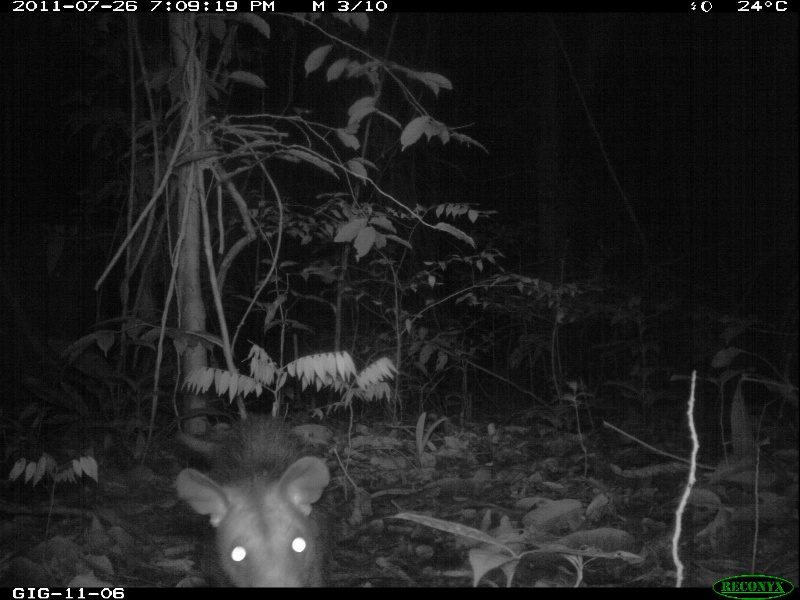opossum: (167, 418, 338, 584)
